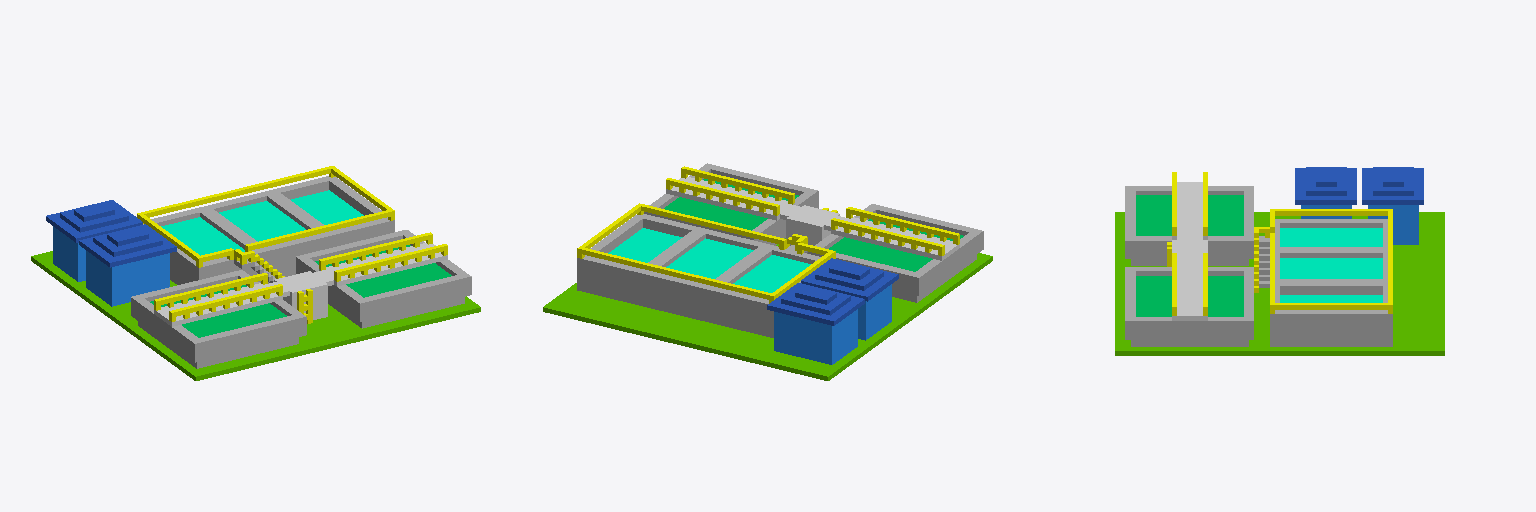
3 renders of one model, left to right at view 1: azimuth 30°, elevation 25°; view 2: azimuth 150°, elevation 25°; view 3: azimuth 270°, elevation 25°, orthographic.
Visible parts, largest first — view 1: object 1; view 2: object 1; view 3: object 1.
Part boxes in pixels (left/top/right/bottom): object 1: left=31, top=166, right=480, bottom=380; object 1: left=543, top=163, right=992, bottom=380; object 1: left=1115, top=167, right=1444, bottom=355.
Size of the model in its own units: 6.4 by 1.3 by 6.4.
1 materials, 1 textured.